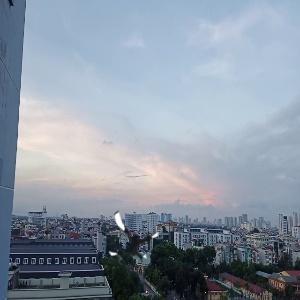drone: (103, 208, 163, 268)
